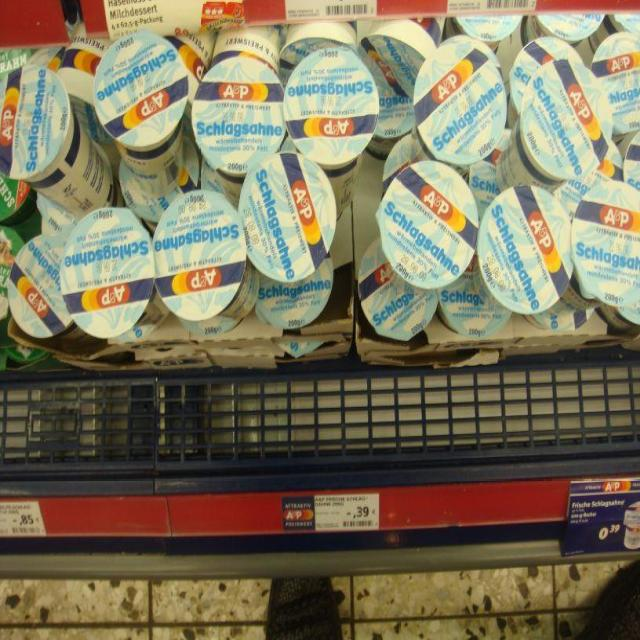Cream: (1, 67, 113, 219), (284, 47, 378, 216), (497, 52, 612, 190), (94, 30, 187, 195), (61, 207, 167, 339), (153, 190, 257, 322), (192, 52, 285, 196), (376, 161, 477, 290), (474, 186, 573, 315), (238, 153, 336, 281), (414, 36, 506, 167), (562, 180, 639, 310), (358, 237, 436, 341), (359, 16, 445, 98), (8, 235, 71, 338), (438, 256, 511, 338), (256, 255, 333, 329), (591, 32, 639, 135), (468, 130, 510, 220), (366, 84, 413, 159)
